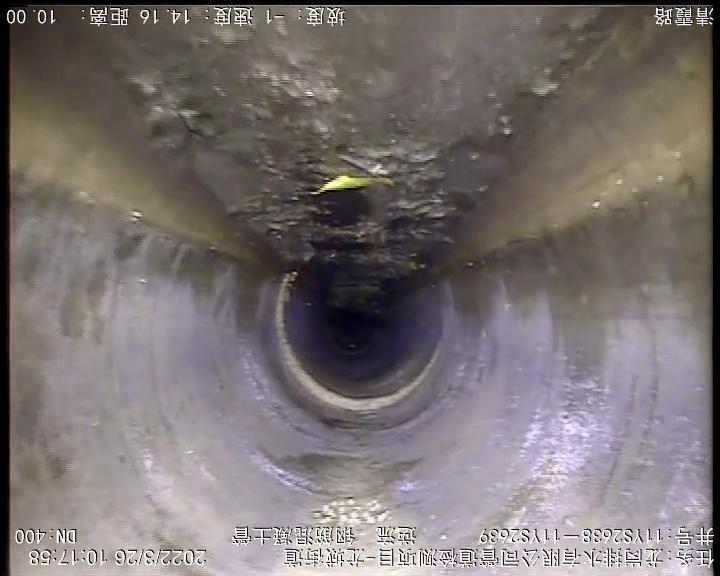CJ: (69, 8, 620, 310)
CKTJ: (271, 268, 451, 414)
